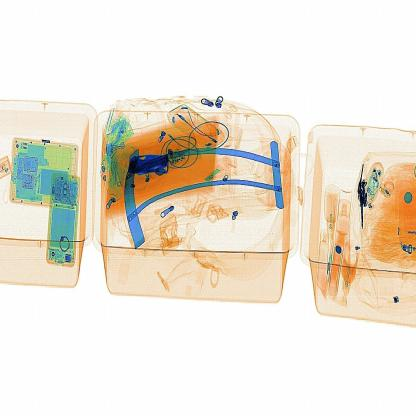knife: (128, 147, 180, 182)
